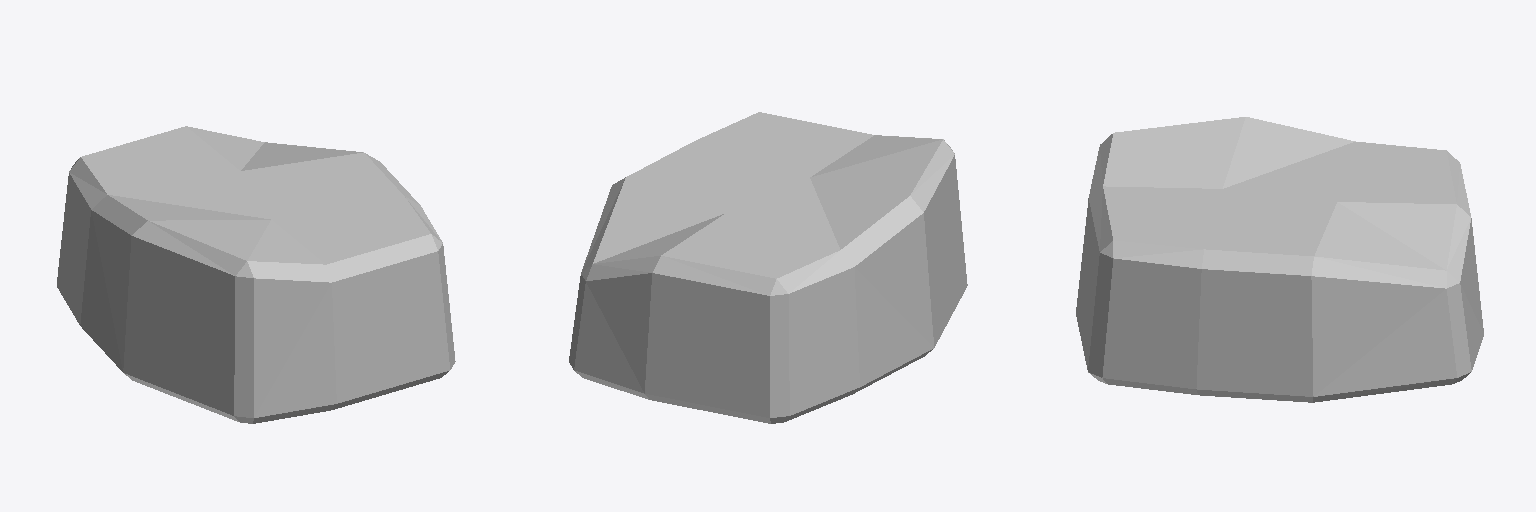
Rendered from StoneBlock_4_3.obj.
3 renders of one model, left to right at view 1: azimuth 30°, elevation 25°; view 2: azimuth 150°, elevation 25°; view 3: azimuth 270°, elevation 25°, orthographic.
Visible parts, largest first — view 1: StoneBlock_4_3; view 2: StoneBlock_4_3; view 3: StoneBlock_4_3.
Boxes of the visible parts, x1=… form: StoneBlock_4_3: x1=57, y1=126, x2=455, y2=423; StoneBlock_4_3: x1=569, y1=112, x2=967, y2=423; StoneBlock_4_3: x1=1076, y1=117, x2=1483, y2=402.
Bounding box in the file's own units: 0.6684 × 0.3345 × 0.7902.